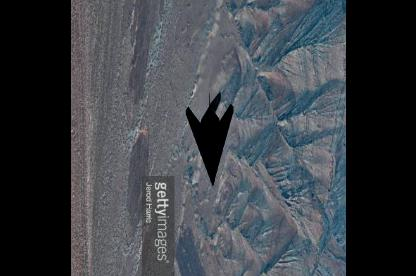E7: (184, 90, 233, 186)
